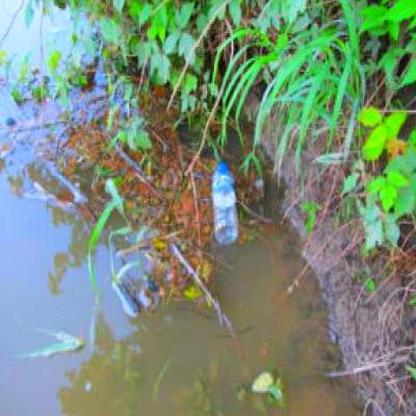plastic bottle: (211, 162, 240, 244)
